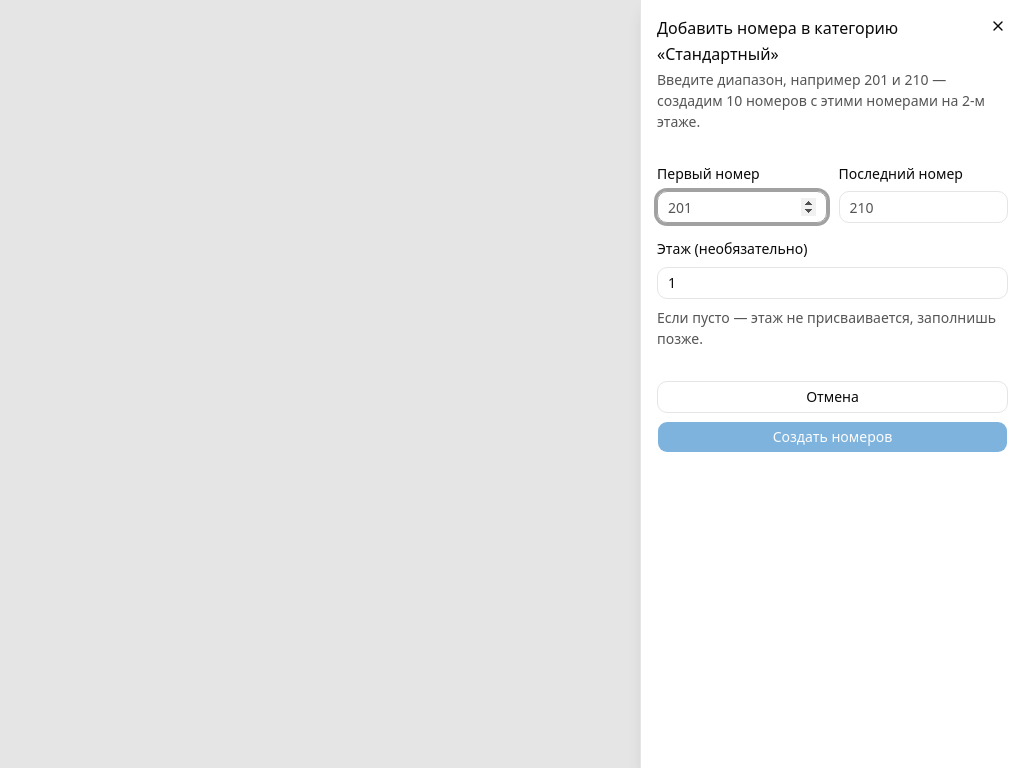
Test: RoomsBulkAddSheet — floor inline-bounds (B5.bis) › [B1] floor=«1.5» (decimal — fails regex) surfaces «Целое число»
The width and height of the screenshot is (1024, 768).
Replace the text in the number field labelled "Этаж (необязательно)" with "1.5": (832, 283) x1=657 y1=267 x2=1008 y2=299
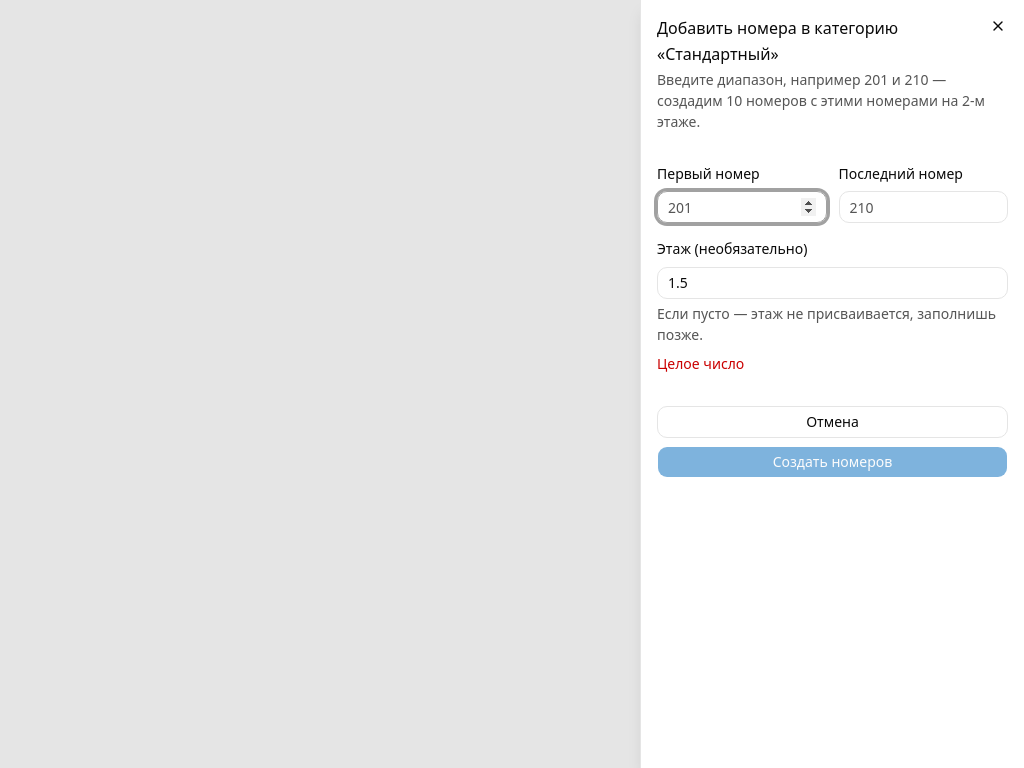
Now the text "Целое число" is shown, box x1=657 y1=354 x2=744 y2=373
